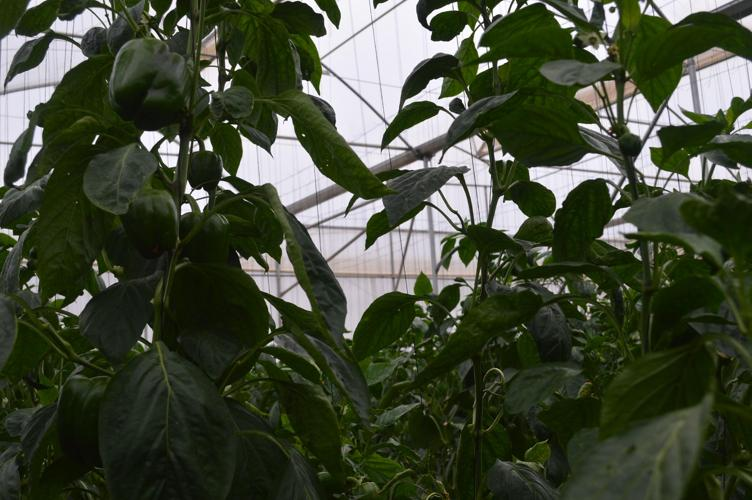BellPepper: (101, 37, 202, 126), (53, 374, 121, 476), (114, 189, 187, 253), (179, 209, 232, 260), (186, 148, 230, 194)
